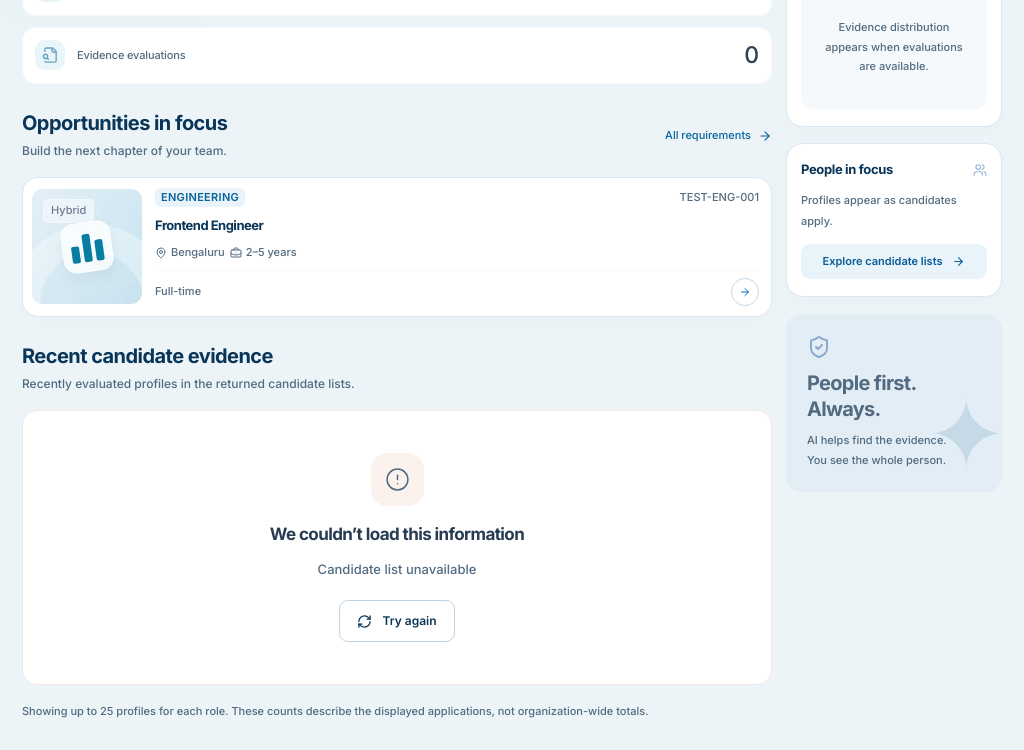
Scenario: HR workspace › exposes candidate-source errors and recovers independently of the jobs list
The image size is (1024, 750).
(page scrolled)
expect the message shows "Candidate list unavailable": met, box [318,561,476,577]
expect the link "Frontend Engineer" is shown: met, box [155,217,263,233]
Click the button "Try again" at (397, 621), box [340,600,454,642]
(page scrolled)
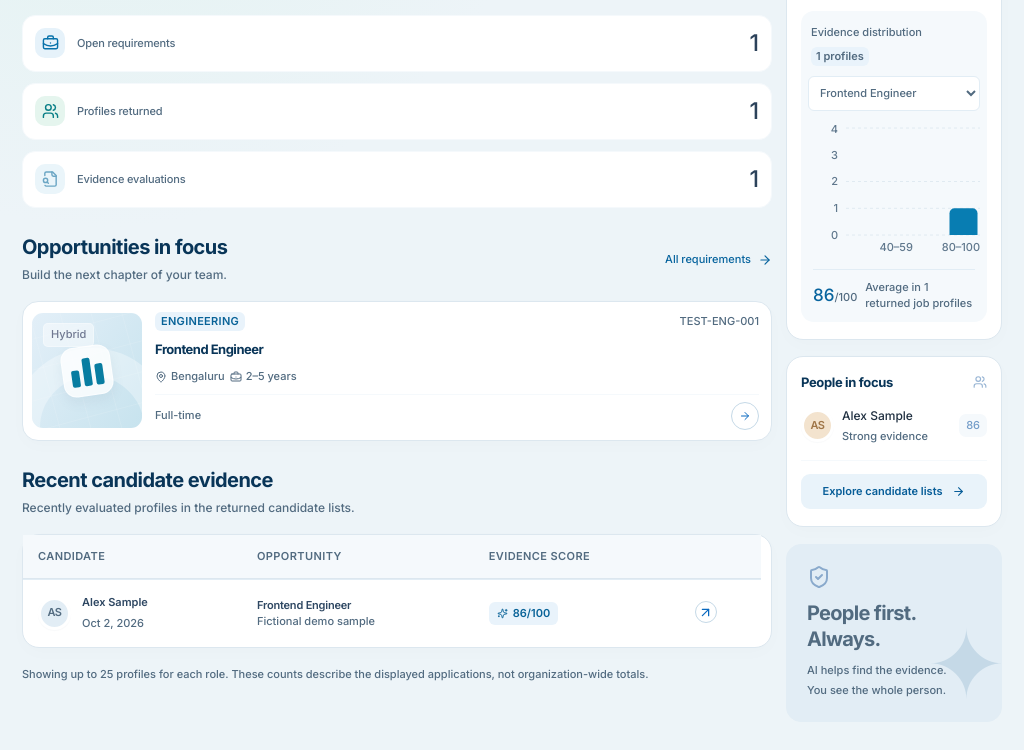
expect the link named "Review Alex Sample" is shown: met, box [694,601,716,623]
